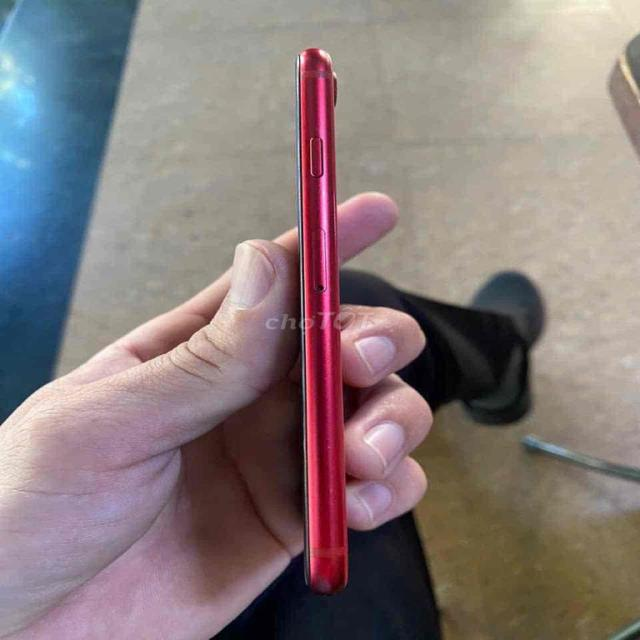scratch: (320, 432, 336, 497)
